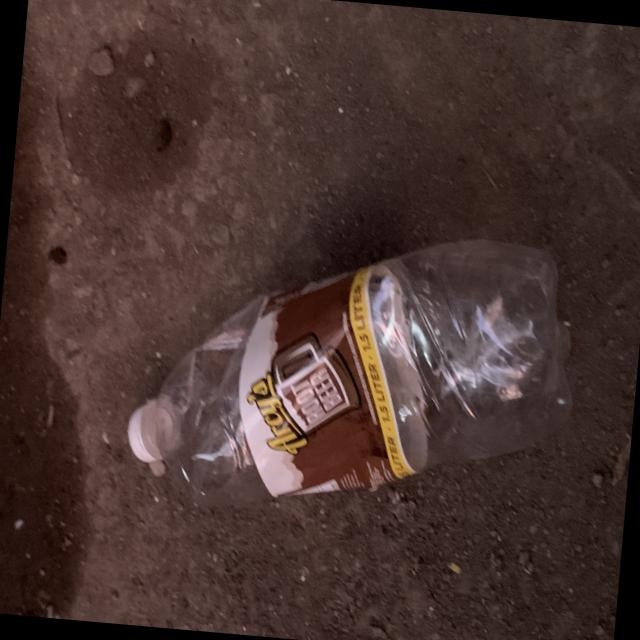Bottle: (126, 239, 570, 506)
